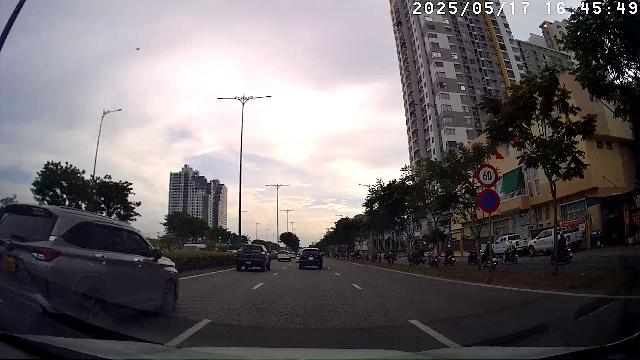127-toc-do-toi-da-60: (475, 163, 498, 188)
130-cam-dung-va-do-xe: (477, 189, 500, 213)
